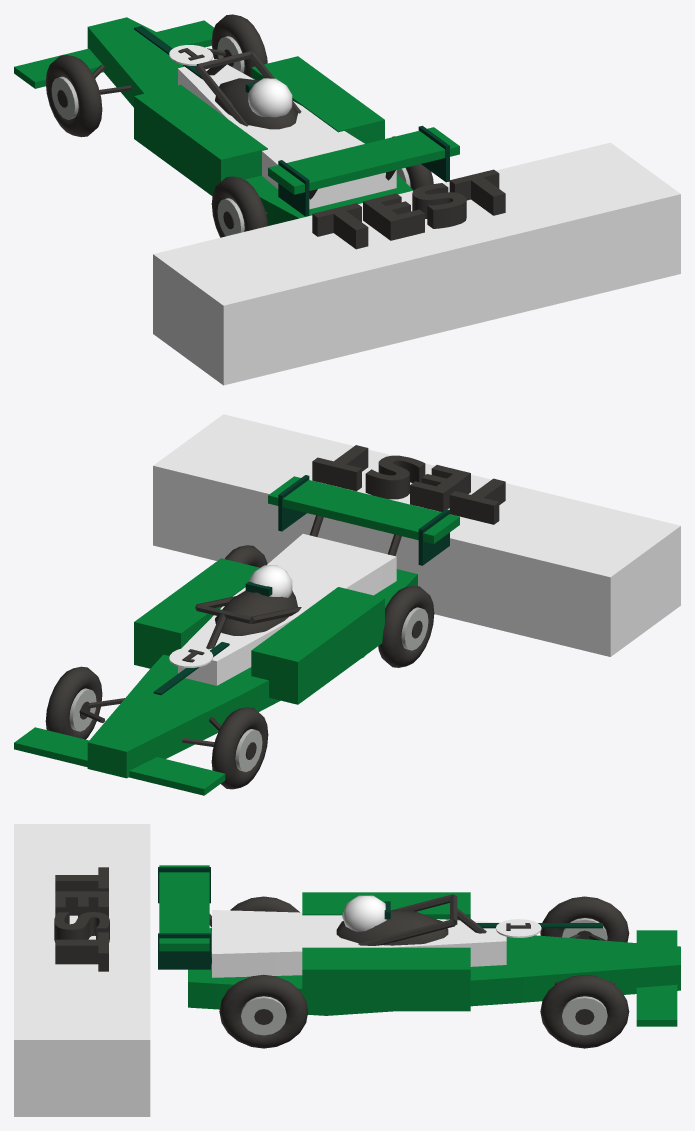
Rendered from IP_penetration_testing.glb.
3 renders of one model, top to bottom at view 1: azimuth 30°, elevation 25°; view 2: azimuth 150°, elevation 25°; view 3: azimuth 270°, elevation 25°, orthographic. The views are drawn at different scales.
Visible parts, largest first — view 1: test-label_white, instance_green, instance_ink, instance_white, test-label_ink, instance_darkgrey, instance_darkgreen; view 2: test-label_white, instance_green, instance_ink, instance_white, test-label_ink, instance_darkgreen, instance_darkgrey; view 3: test-label_white, instance_green, instance_ink, instance_white, test-label_ink, instance_darkgrey, instance_darkgreen.
Part boxes in pixels (left/top/right/bottom): test-label_white: left=153, top=142, right=680, bottom=385; instance_green: left=14, top=17, right=459, bottom=225; instance_ink: left=45, top=14, right=433, bottom=237; instance_white: left=169, top=45, right=396, bottom=209; test-label_ink: left=312, top=169, right=505, bottom=249; instance_darkgrey: left=51, top=36, right=410, bottom=236; instance_darkgreen: left=134, top=26, right=449, bottom=216; test-label_white: left=153, top=414, right=680, bottom=656; instance_green: left=14, top=476, right=459, bottom=795; instance_ink: left=45, top=515, right=434, bottom=789; instance_white: left=169, top=534, right=396, bottom=685; test-label_ink: left=312, top=445, right=505, bottom=524; instance_darkgreen: left=153, top=475, right=449, bottom=695; instance_darkgrey: left=69, top=607, right=428, bottom=771; test-label_white: left=14, top=824, right=150, bottom=1116; instance_green: left=159, top=865, right=680, bottom=1026; instance_ink: left=209, top=894, right=629, bottom=1048; instance_white: left=212, top=895, right=541, bottom=977; test-label_ink: left=54, top=867, right=109, bottom=971; instance_darkgrey: left=241, top=918, right=607, bottom=1035; instance_darkgreen: left=158, top=867, right=602, bottom=969.
Size of the model in its own units: 1.5 by 0.3648 by 1.96.
